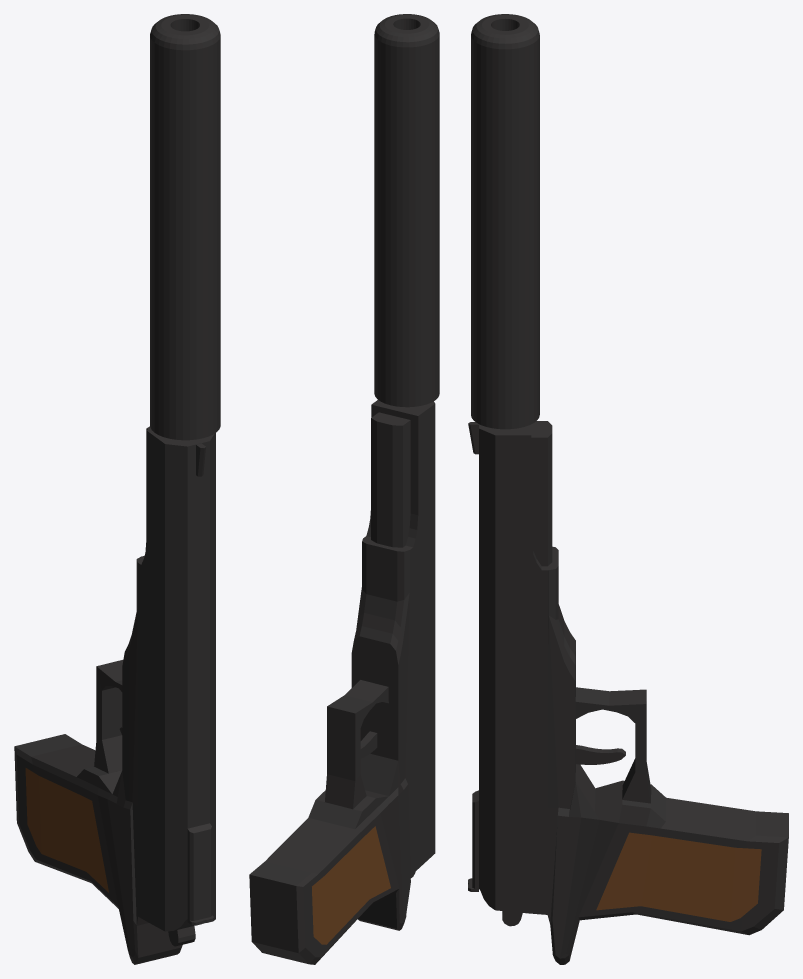
Rendered from pistol.fbx.
3 renders of one model, left to right at view 1: azimuth 30°, elevation 25°; view 2: azimuth 150°, elevation 25°; view 3: azimuth 270°, elevation 25°, orthographic. The views are drawn at different scales.
Parts seen in each view (by area): view 1: Cube; view 2: Cube; view 3: Cube.
Boxes of the visible parts, left/top/right/bottom form: Cube: left=14, top=14, right=220, bottom=964; Cube: left=249, top=14, right=439, bottom=964; Cube: left=468, top=14, right=788, bottom=964.
Bounding box in the file's own units: 241 × 3585 × 1120.
